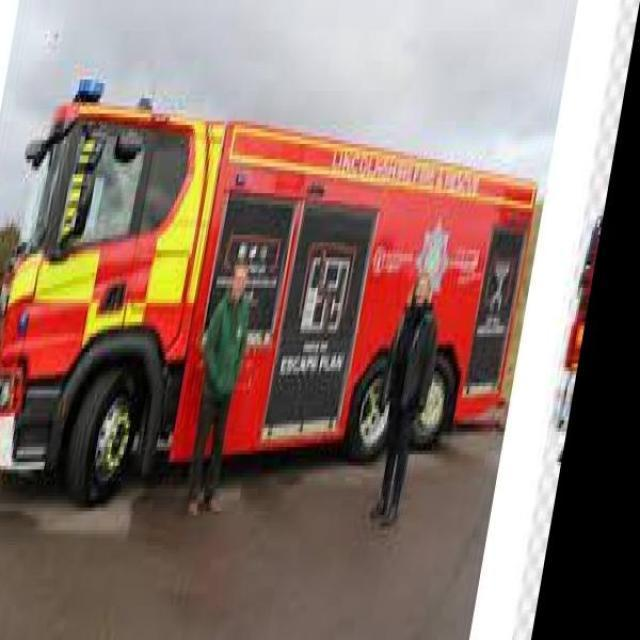emergency: (0, 75, 560, 507)
